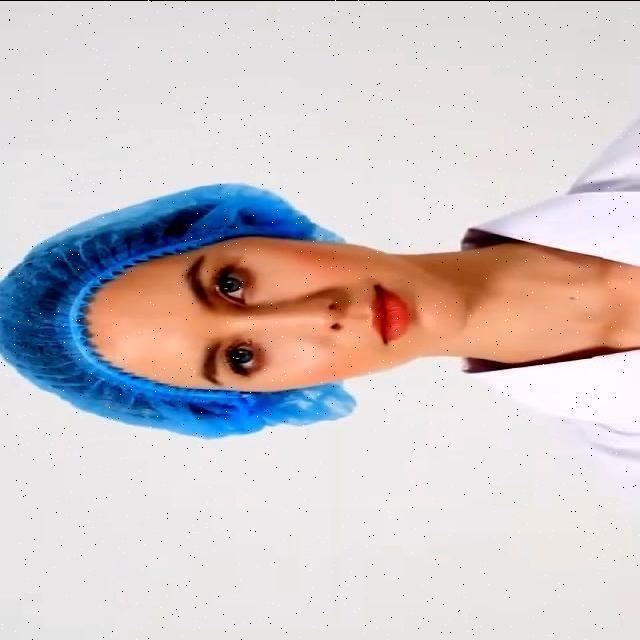gloves: (0, 193, 110, 417)
no_hairnet: (306, 245, 424, 386)
